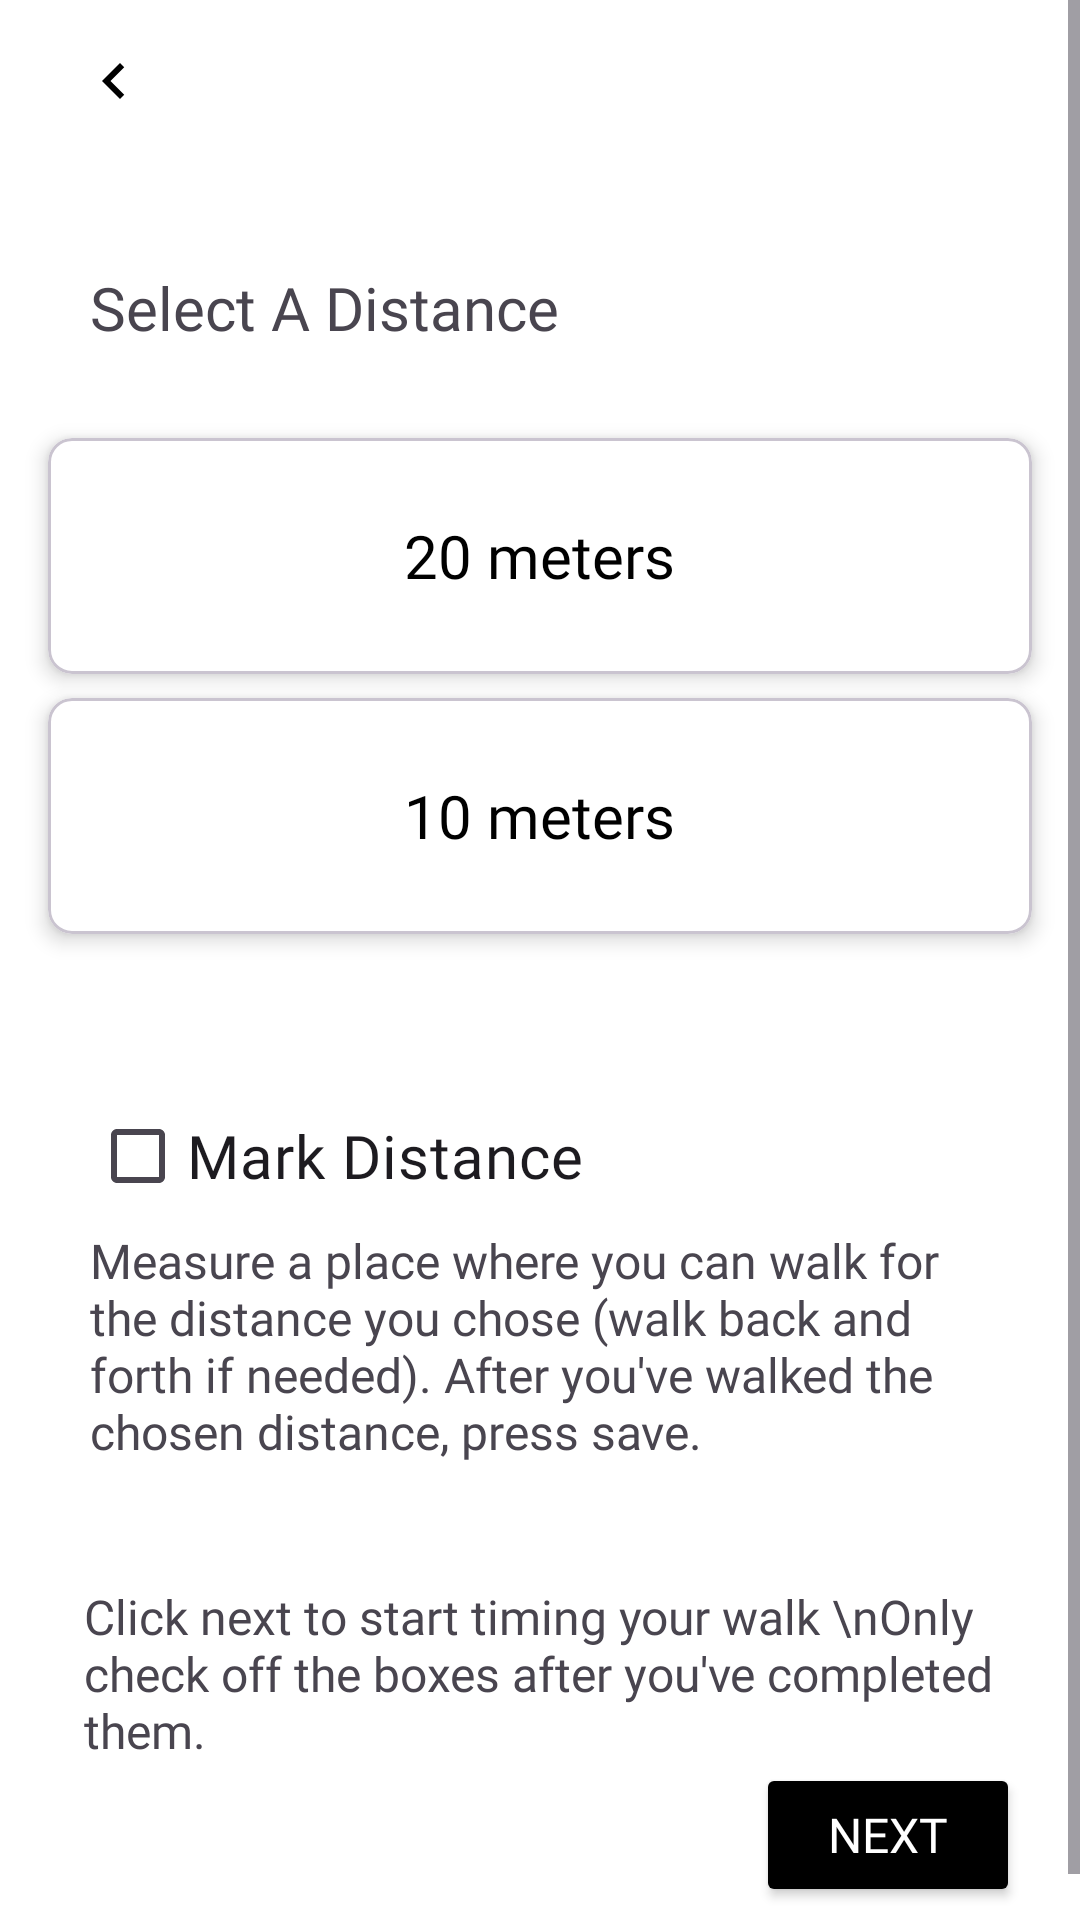

Where icons sit on this 1080px×1920px app screen, as (x1, y1, x2, y2):
chevron left: (102, 63, 124, 99)
